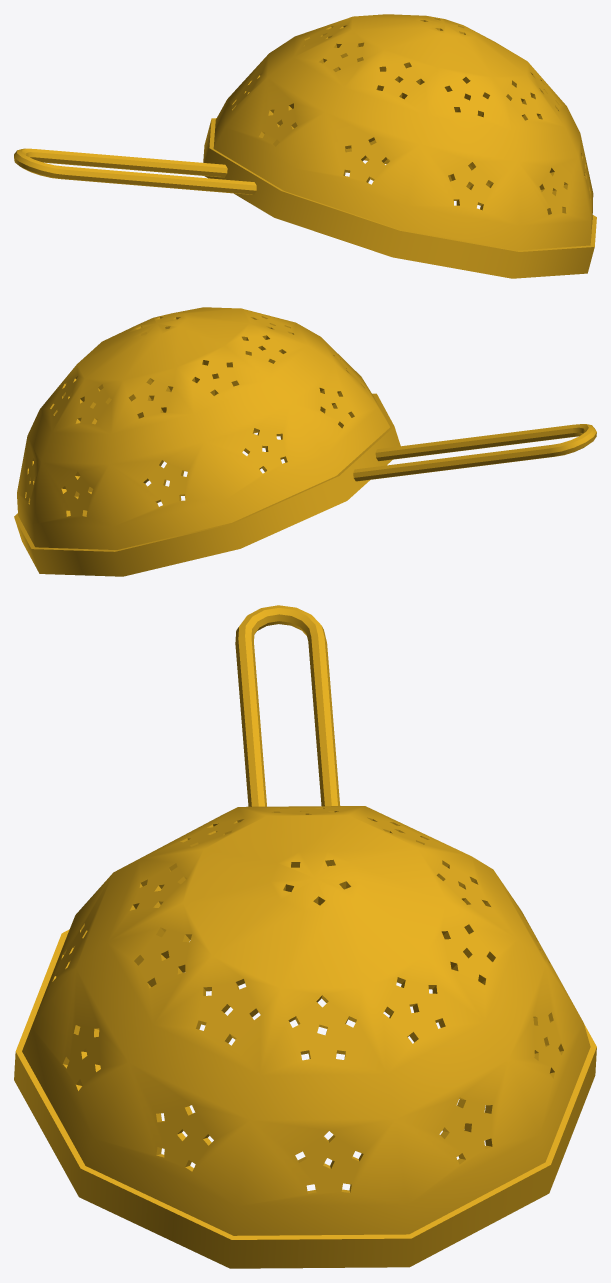
Rendered from Hat_73_02.fbx.
3 renders of one model, top to bottom at view 1: azimuth 30°, elevation 25°; view 2: azimuth 150°, elevation 25°; view 3: azimuth 270°, elevation 25°, orthographic. The views are drawn at different scales.
Parts seen in each view (by area): view 1: Hat_73_02; view 2: Hat_73_02; view 3: Hat_73_02.
Boxes of the visible parts, bbox=[...] form: Hat_73_02: bbox=[14, 14, 596, 278]; Hat_73_02: bbox=[14, 307, 596, 576]; Hat_73_02: bbox=[14, 605, 596, 1268].
Bounding box in the file's own units: 59.05 × 23.56 × 38.18.
